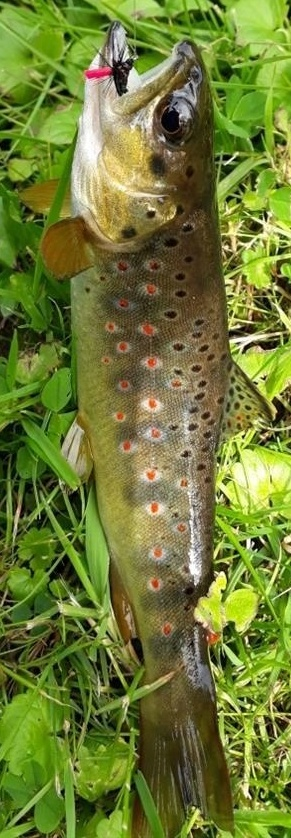Salmo trutta subsp. fario: (20, 20, 271, 838)
